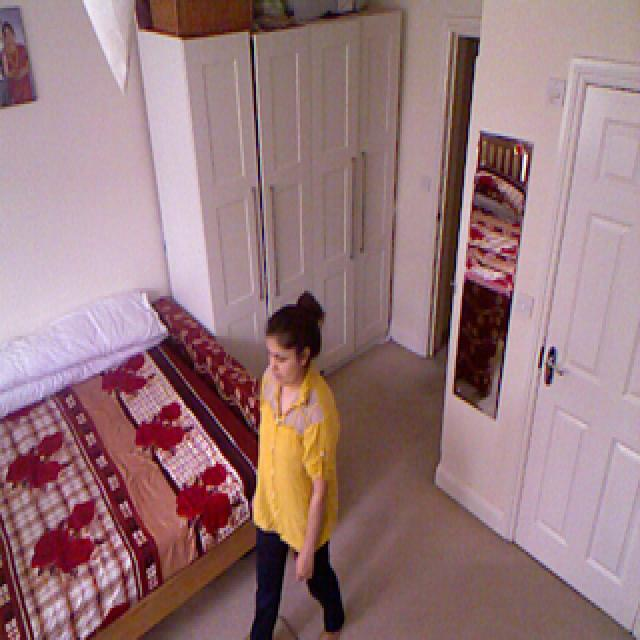standing: (244, 290, 346, 640)
